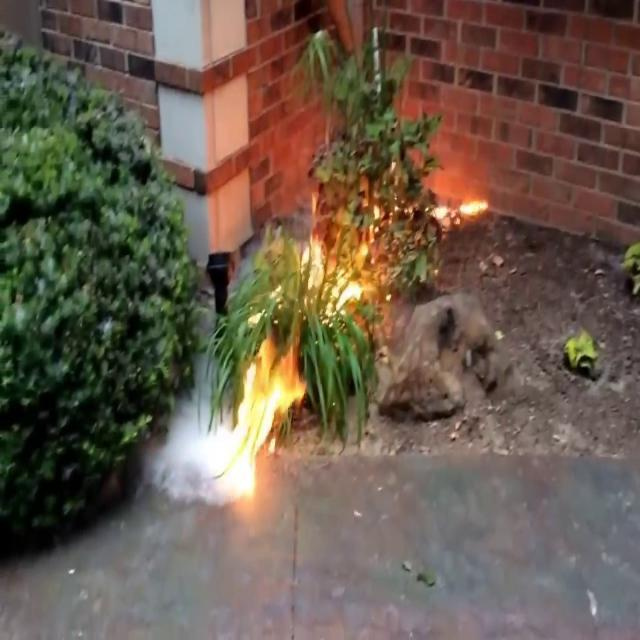Fire: (216, 328, 302, 498), (286, 212, 378, 331), (430, 182, 492, 228)
